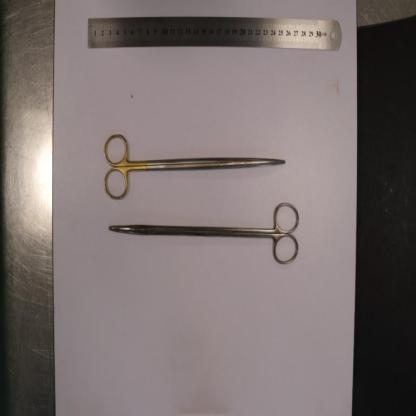7 Metzenbaum Scissors: (103, 131, 286, 200)
9 Metzenbaum Scissors: (109, 200, 299, 266)
